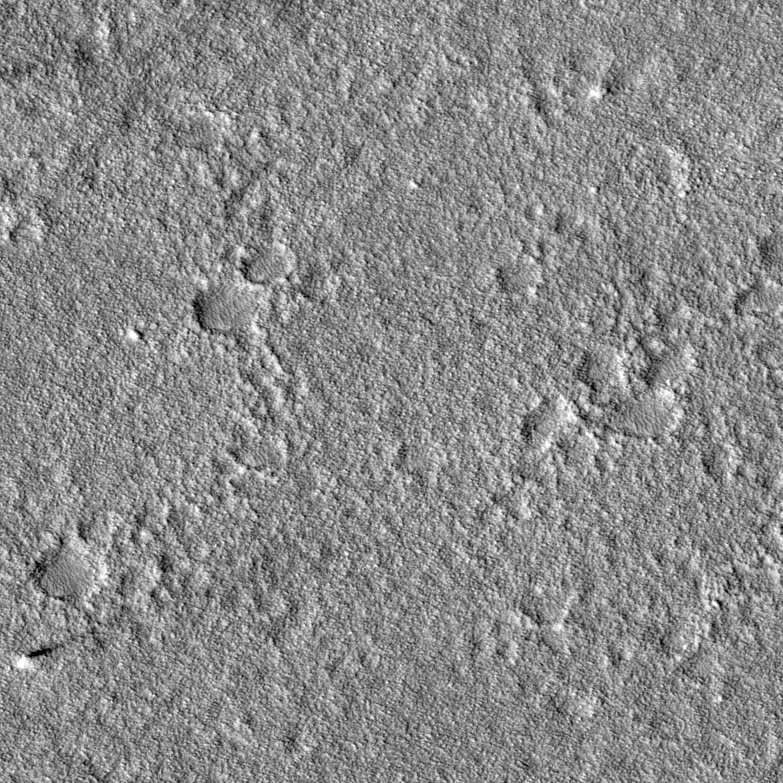dust_devil: (14, 642, 65, 670)
